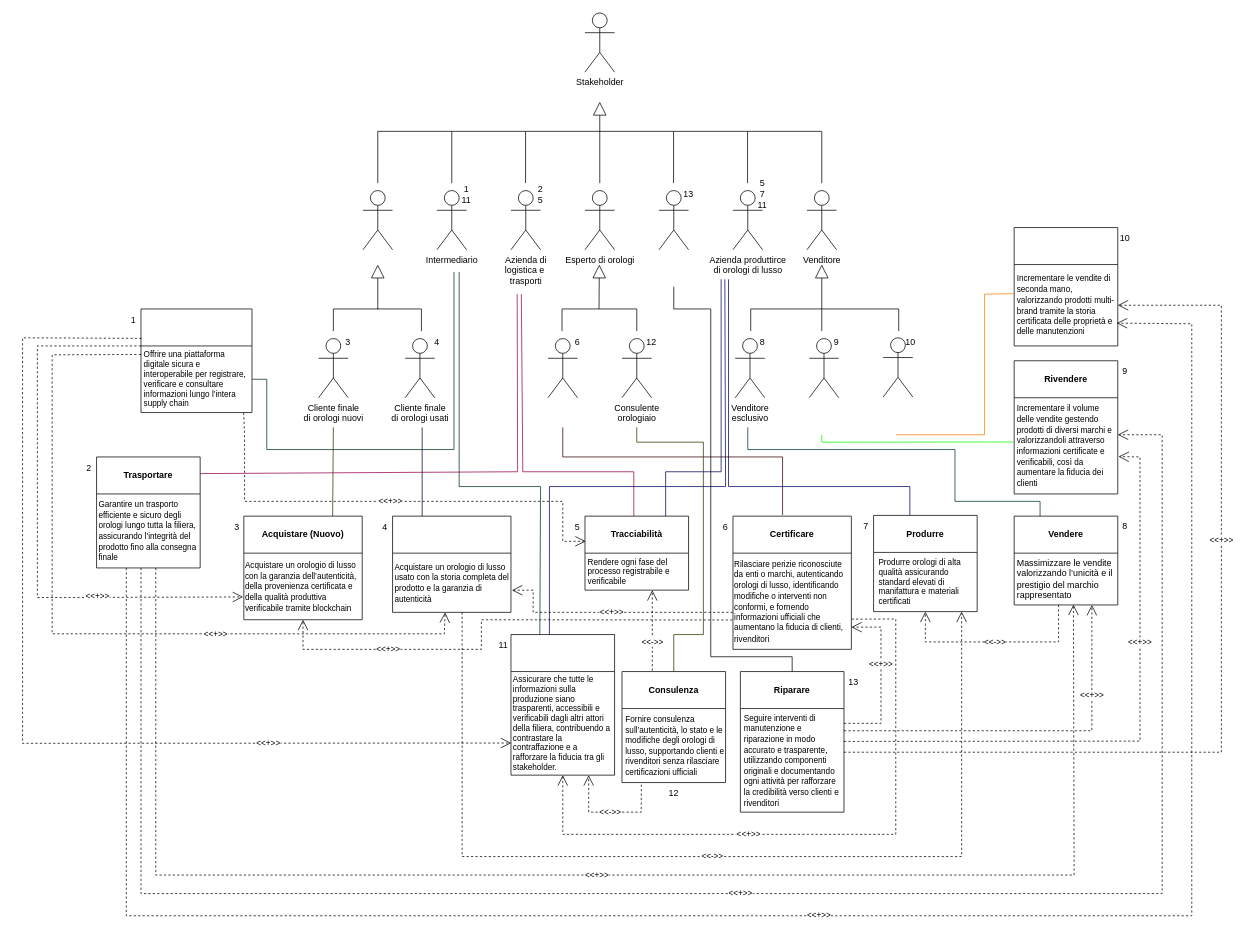
This 1246x939 diagram has some shape labels left out. The box of each missing label's shape, as (x1, y1, x2, y2) in pixels:
Acquistare (Usato): (392, 515, 511, 612)
Centro di riparazione certificato: (658, 190, 689, 250)
Cliente finale: (362, 190, 393, 250)
Digitalizzazione: (140, 308, 252, 413)
Perito orologiaio certificato: (547, 338, 578, 398)
Rivendere usato: (1013, 227, 1118, 346)
Rivenditore di orologi di lusso nuovi: (808, 338, 839, 398)
Rivenditore di orologi di lusso usati: (882, 337, 913, 397)
Trasparenza: (510, 634, 615, 775)
